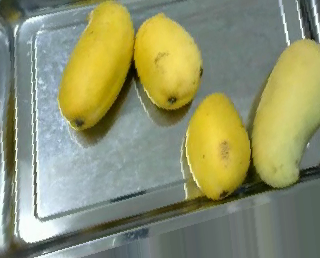Mango: (249, 37, 320, 188), (56, 2, 137, 133), (182, 92, 250, 204), (131, 13, 205, 112)
